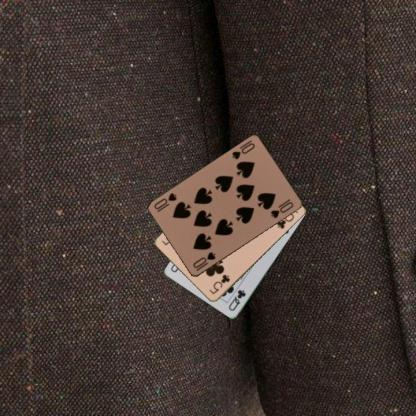10s: (229, 140, 256, 162), (190, 249, 217, 270)
5c: (206, 272, 231, 296)
Qc: (226, 287, 247, 313)
